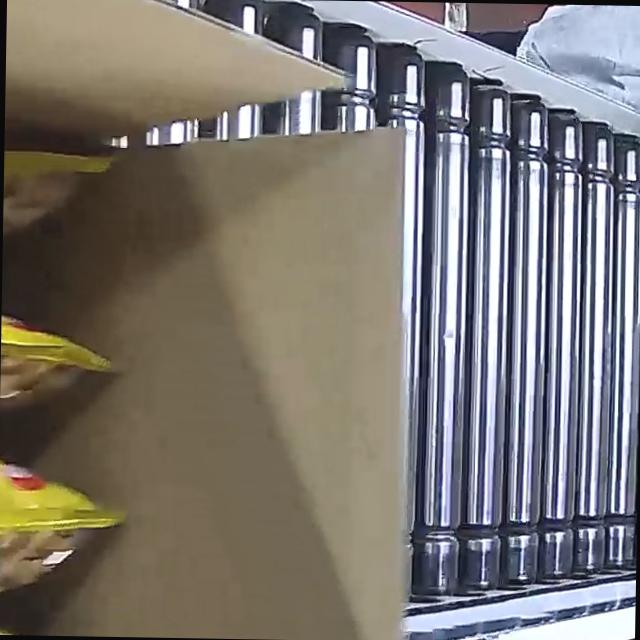salted: (0, 121, 170, 637)
